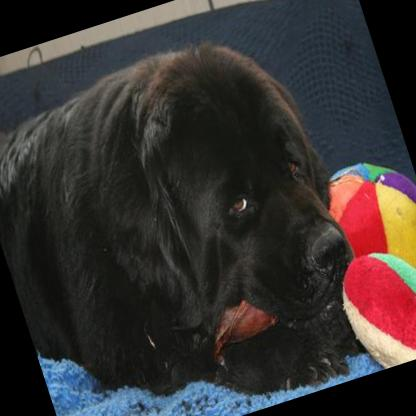Newfoundland: (0, 11, 388, 416)
